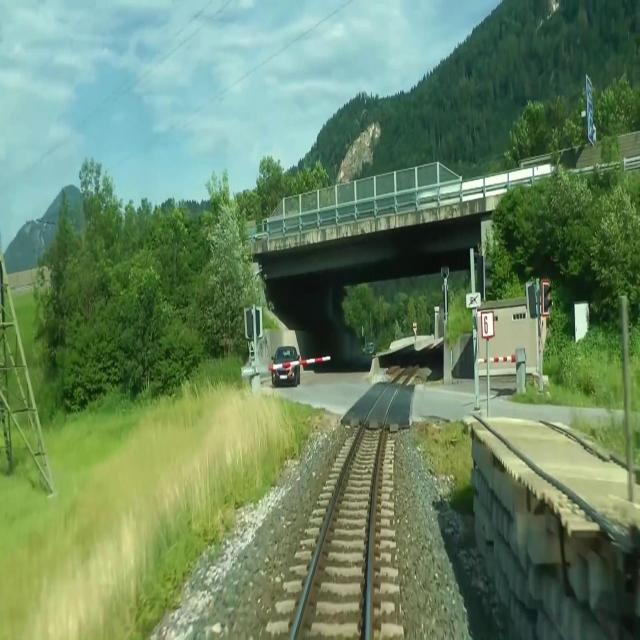rail-track: (294, 344, 438, 639)
